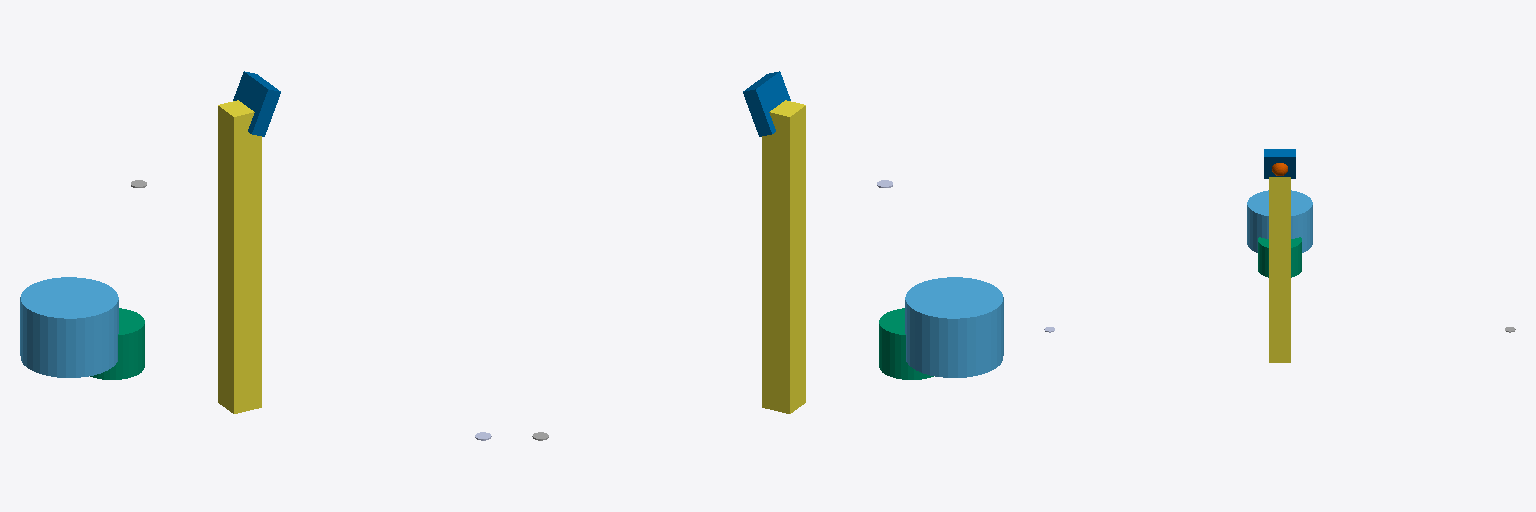
URDF robot description (neor_mini):
<?xml version="1.0" encoding="utf-8"?>
<!-- This URDF was automatically created by SolidWorks to URDF Exporter! Originally created by [author] ([email redacted]) 
     Commit Version: 1.5.1-0-g916b5db  Build Version: 1.5.7152.31018
     For more information, please see http://wiki.ros.org/sw_urdf_exporter -->
<robot name="neor_mini">

  <!-- Add Gazebo plugins -->
    <!-- Load ros_control plugin using the steer_bot_hardware_gazebo
    implementation of the hardware_interface::RobotHW -->

  <gazebo>
    <plugin name="gazebo_ros_control" filename="libgazebo_ros_control.so">
      <robotSimType>steer_bot_hardware_gazebo/SteerBotHardwareGazebo</robotSimType>
      <legacyModeNS>false</legacyModeNS>
    </plugin>
  </gazebo>

    <link name="base_link">
    <!-- avoid root link inertia warnings, annotation -->
    <inertial>
      <origin
        xyz="0.030649671440691 -1.79069899872708E-05 0.0558717976709459"
        rpy="0 0 0" />
      <mass
        value="1.72617713171385" />
      <inertia
        ixx="0.0107311274569357"
        ixy="-3.24164649120244E-08"
        ixz="0.00169188715816868"
        iyy="0.0198871551919603"
        iyz="2.40252669081509E-07"
        izz="0.0269841937242323" />
    </inertial>

    <visual>
      <origin xyz="0 0 0" rpy="0 0 0" />
      <geometry>
        <mesh filename="package://neor_mini/meshes/base_link.STL" />
      </geometry>
      <material name="">
      <color rgba="0.250980392156863 0.250980392156863 0.250980392156863 1" /> 
      </material> 
    </visual>
    <collision>
      <origin
        xyz="0 0 0"
        rpy="0 0 0" />
      <geometry>
        <mesh
          filename="package://neor_mini/meshes/base_link.STL" />
      </geometry>
    </collision>
  </link>
  <link
    name="rear_wheel_link">
    <inertial>
      <origin
        xyz="-8.88178419700125E-16 -2.05391259555654E-14 -0.00112500000001892"
        rpy="0 0 0" />
      <mass
        value="5.65486677646169E-05" />
      <inertia
        ixx="1.32005796313028E-10"
        ixy="-1.938704560671E-27"
        ixz="2.13770572261755E-26"
        iyy="1.32005796313028E-10"
        iyz="-7.60216295195271E-25"
        izz="2.03575203952622E-10" />
    </inertial>
    <visual>
      <origin
        xyz="0 0 0"
        rpy="0 0 0" />
      <geometry>
        <mesh
          filename="package://neor_mini/meshes/rear_wheel_link.STL" />
      </geometry>
      <material
        name="">
        <color
          rgba="0.274509803921569 1 0.247058823529412 1" />
      </material>
    </visual>
    <collision>
      <origin
        xyz="0 0 0"
        rpy="0 0 0" />
      <geometry>
        <mesh
          filename="package://neor_mini/meshes/rear_wheel_link.STL" />
      </geometry>
    </collision>
  </link>
  <joint
    name="rear_wheel_joint"
    type="continuous">
    <origin
      xyz="-0.181499999999597 0 0.0399999999987674"
      rpy="0 0 0" />
    <parent
      link="base_link" />
    <child
      link="rear_wheel_link" />
    <axis
      xyz="0 1 0" />
  </joint>
  <link
    name="left_rear_link">
    <inertial>
      <origin
        xyz="7.85229659072684E-11 -0.0196762547002777 4.85059770127805E-11"
        rpy="0 0 0" />
      <mass
        value="0.29556182905038" />
      <inertia
        ixx="0.000374087423652291"
        ixy="2.19336154342606E-13"
        ixz="-5.50404301757561E-12"
        iyy="0.000661017199375587"
        iyz="-5.10049385981967E-14"
        izz="0.000374087441459994" />
    </inertial>
    <visual>
      <origin
        xyz="0 0 0"
        rpy="0 0 0" />
      <geometry>
        <mesh
          filename="package://neor_mini/meshes/left_rear_link.STL" />
      </geometry>
      <material
        name="">
        <color
          rgba="0.792156862745098 0.819607843137255 0.933333333333333 1" />
      </material>
    </visual>
    <collision>
      <origin
        xyz="0 0 0"
        rpy="0 0 0" />
      <geometry>
        <mesh
          filename="package://neor_mini/meshes/left_rear_link.STL" />
      </geometry>
    </collision>
  </link>
  <joint
    name="left_rear_joint"
    type="continuous">
    <origin
      xyz="-0.181499999999595 0.228542434993694 0.0399999999991634"
      rpy="0 0 0" />
    <parent
      link="base_link" />
    <child
      link="left_rear_link" />
    <axis
      xyz="0 1 0" />
    <limit
      lower="-3.14"
      upper="3.14"
      effort="0"
      velocity="0" />
  </joint>
  <link
    name="right_rear_link">
    <inertial>
      <origin
        xyz="7.8521189550429E-11 0.0196762545376323 3.35983463273237E-11"
        rpy="0 0 0" />
      <mass
        value="0.295561829050389" />
      <inertia
        ixx="0.000374087423652306"
        ixy="-2.1933774523493E-13"
        ixz="5.50404145624456E-12"
        iyy="0.000661017199375601"
        iyz="-5.10073974604221E-14"
        izz="0.000374087441459995" />
    </inertial>
    <visual>
      <origin
        xyz="0 0 0"
        rpy="0 0 0" />
      <geometry>
        <mesh
          filename="package://neor_mini/meshes/right_rear_link.STL" />
      </geometry>
      <material
        name="">
        <color
          rgba="0.792156862745098 0.819607843137255 0.933333333333333 1" />
      </material>
    </visual>
    <collision>
      <origin
        xyz="0 0 0"
        rpy="0 0 0" />
      <geometry>
        <mesh
          filename="package://neor_mini/meshes/right_rear_link.STL" />
      </geometry>
    </collision>
  </link>
  <joint
    name="right_rear_joint"
    type="continuous">
    <origin
      xyz="-0.181499999999595 -0.228542434994426 0.0399999999991584"
      rpy="0 0 0" />
    <parent
      link="base_link" />
    <child
      link="right_rear_link" />
    <axis
      xyz="0 1 0" />
    <limit
      lower="-3.14"
      upper="3.14"
      effort="0"
      velocity="0" />
  </joint>
  <link
    name="front_steer_link">
    <inertial>
      <origin
        xyz="-2.1316282072803E-14 3.67778030252452E-11 -0.00112486602459905"
        rpy="0 0 0" />
      <mass
        value="5.65486677646163E-05" />
      <inertia
        ixx="1.32005796313026E-10"
        ixy="1.16322273640277E-26"
        ixz="1.20446157864484E-28"
        iyy="1.32005796313026E-10"
        iyz="-8.66481261175625E-27"
        izz="2.03575203952619E-10" />
    </inertial>
    <visual>
      <origin
        xyz="0 0 0"
        rpy="0 0 0" />
      <geometry>
        <mesh
          filename="package://neor_mini/meshes/front_steer_link.STL" />
      </geometry>
      <material
        name="">
        <color
          rgba="0.274509803921569 1 0.247058823529412 1" />
      </material>
    </visual>
    <collision>
      <origin
        xyz="0 0 0"
        rpy="0 0 0" />
      <geometry>
        <mesh
          filename="package://neor_mini/meshes/front_steer_link.STL" />
      </geometry>
    </collision>
  </link>
  <joint
    name="front_steer_joint"
    type="revolute">
    <origin
      xyz="0.172883370897628 0 -0.00376561854722868"
      rpy="0 0 0" />
    <parent
      link="base_link" />
    <child
      link="front_steer_link" />
    <axis
      xyz="0 0 1" />
    <limit
      lower="-0.72"
      upper="0.72"
      effort="0"
      velocity="0" />
  </joint>

<!-- In order to fit ackermann simulation plugins's request,amend the front steer link and it's joint -->
 <link name="front_steer_right_link">
 <!--  remember add inertial  label,if not,and it can't visual on gazebo-->
 <inertial>  
      <origin xyz="9.44636555644252E-08 -0.000295273745285485 -8.13046296954667E-11" rpy="0 0 0" />
      <mass value="0.296315811300368" /> 
      <inertia
        ixx="0.000374692013709393"
        ixy="-9.17172260383823E-08"
        ixz="-2.43187512356516E-12"
        iyy="0.000661029987747155"
        iyz="1.9736939507106E-13"
        izz="0.000374691963930348" />
    </inertial>
   <visual>
     <geometry>
       <cylinder length="0.001" radius="0.005"/>
     </geometry>
     <origin rpy="0 0 0"  xyz="0 0 0" />
     <material name=""> 
          <color rgba="0.792156862745098 0.819607843137255 0.933333333333333 1" />
     </material>
   </visual>
   <collision>
      <origin
        xyz="0 0 0"
        rpy="0 0 0" />
      <geometry>
       <cylinder length="0.001" radius="0.005"/>
      </geometry>
    </collision>
 </link>
 <joint name="front_steer_right_joint" type="revolute">
    <origin rpy="0 0 0"  xyz="0.17 -0.21 0.102" />
    <parent link="base_link" />
    <child link="front_steer_right_link" />
    <axis xyz="0 0 1" />     <!-- charge steer direction default is 0 0 1-->
    <limit lower="-0.69" upper="0.69" effort="0" velocity="0" />
 </joint>
<!-- ************************************************************************************* -->

  <link
    name="front_right_wheel_link">
    <inertial>
      <origin
        xyz="9.44636555644252E-08 -0.000295273745285485 -8.13046296954667E-11"
        rpy="0 0 0" />
      <mass
        value="0.296315811300368" />
      <inertia
        ixx="0.000374692013709393"
        ixy="-9.17172260383823E-08"
        ixz="-2.43187512356516E-12"
        iyy="0.000661029987747155"
        iyz="1.9736939507106E-13"
        izz="0.000374691963930348" />
    </inertial>
    <visual>
      <origin
        xyz="0 0 0"
        rpy="0 0 0" />
      <geometry>
        <mesh
          filename="package://neor_mini/meshes/front_right_wheel_link.STL" />
      </geometry>
      <material
        name="">
        <color
          rgba="0.792156862745098 0.819607843137255 0.933333333333333 1" />
      </material>
    </visual>
    <collision>
      <origin
        xyz="0 0 0"
        rpy="0 0 0" />
      <geometry>
        <mesh
          filename="package://neor_mini/meshes/front_right_wheel_link.STL" />
      </geometry>
    </collision>
  </link>
  <joint name="front_right_wheel_joint" type="continuous">
    <origin xyz="0 0 -0.06" rpy="0 0 0" />   <!-- amend the position between steer_right_link and front right wheel-->
    <parent link="front_steer_right_link" />
    <child  link="front_right_wheel_link" />
    <axis xyz="0 1 0" />
  </joint>

<!-- In order to fit ackermann simulation plugins's request,amend the front steer link and it's joint -->
 <link name="front_steer_left_link">
 <!--  remember add inertial  label,if not,and it can't visual on gazebo-->
    <inertial> 
      <origin xyz="9.44636555644252E-08 -0.000295273745285485 -8.13046296954667E-11" rpy="0 0 0" />
      <mass value="0.296315811300368" /> 
      <inertia
        ixx="0.000374692013709393"
        ixy="-9.17172260383823E-08"
        ixz="-2.43187512356516E-12"
        iyy="0.000661029987747155"
        iyz="1.9736939507106E-13"
        izz="0.000374691963930348" />
    </inertial>
   <visual>
     <geometry>
       <cylinder length="0.001" radius="0.005"/>
     </geometry>
     <origin rpy="0 0 0"  xyz="0 0 0" />
   </visual>
    <collision>
      <origin xyz="0 0 0" rpy="0 0 0" />
      <geometry>
       <cylinder length="0.001" radius="0.005"/>
      </geometry>
    </collision>
 </link>
 <joint name="front_steer_left_joint" type="revolute">
    <origin rpy="0 0 0"  xyz="0.17 0.21 0.102" />
    <parent link="base_link" />
    <child link="front_steer_left_link" />
    <axis xyz="0 0 1" />  <!-- charge steer direction default is 0 0 1-->
    <limit lower="-0.69" upper="0.69" effort="0" velocity="0" />
 </joint>
<!-- ************************************************************************************* -->

  <link
    name="front_left_wheel_link">
    <inertial>
      <origin
        xyz="-3.99413835339146E-11 0.000295273997845347 1.08602016268833E-10"
        rpy="0 0 0" />
      <mass
        value="0.296315811293944" />
      <inertia
        ixx="0.00037469197851121"
        ixy="-1.84493877596723E-13"
        ixz="-9.50756757097929E-12"
        iyy="0.00066103001709398"
        iyz="-1.17866882205563E-13"
        izz="0.000374691969713977" />
    </inertial>
    <visual>
      <origin
        xyz="0 0 0"
        rpy="0 0 0" />
      <geometry>
        <mesh
          filename="package://neor_mini/meshes/front_left_wheel_link.STL" />
      </geometry>
      <material
        name="">
        <color
          rgba="0.792156862745098 0.819607843137255 0.933333333333333 1" />
      </material>
    </visual>
    <collision>
      <origin
        xyz="0 0 0"
        rpy="0 0 0" />
      <geometry>
        <mesh
          filename="package://neor_mini/meshes/front_left_wheel_link.STL" />
      </geometry>
    </collision>
  </link>
  <joint name="front_left_wheel_joint" type="continuous">
    <origin xyz="0 0 -0.06" rpy="0 0 0" />      <!-- amend the position between steer_left_link and front left wheel-->
    <parent link="front_steer_left_link" />
    <child link="front_left_wheel_link" />
    <axis xyz="0 1 0" /> 
  </joint>


  <!--  add laser link -->
  <link name="laser_link">
    <visual>
      <geometry>
        <cylinder length="0.04" radius="0.03"/>
      </geometry>
    </visual>
  </link>
  <joint name ="2Dlaser_joints" type="fixed">
    <origin xyz="0.0 0.0 0.13" rpy="0.0 0.0 0.0"/>
    <parent link="base_link"/>
    <child link="laser_link"/>
  </joint>
    <!--  add laser link -->
  <link name="laser_link2">
    <visual>
      <geometry>
        <cylinder length="0.03" radius="0.02"/>
      </geometry>
    </visual>
  </link>
  <joint name ="2Dlaser_joints2" type="fixed">
    <origin xyz="0.03 0.0 0.112" rpy="0.0 0.0 0.0"/>
    <parent link="base_link"/>
    <child link="laser_link2"/>
  </joint>
  <!--*********************************************************************-->
  
  <!-- add camera links -->
  <link name="camerabase_link">
    <visual>
      <geometry>
        <box size="0.02 0.02 0.2"/>
      </geometry>
    </visual>
  </link>
  <joint name ="camerabase_joints" type="fixed">
    <origin xyz="0.12 0.0 0.15" rpy="0.0 0.0 0.0"/>   
    <parent link="base_link"/>
    <child link="camerabase_link"/>
  </joint>

  <link name="camera_link">
    <visual>
      <geometry>
        <box size="0.01 0.03 0.03"/>
      </geometry>
    </visual>
  </link>
  <joint name ="camera_joints" type="fixed">
    <origin xyz="0.01 0 0.1" rpy="0.0 0.4 0.0"/>   
    <parent link="camerabase_link"/>
    <child link="camera_link"/>
  </joint>
  
  <link name="camerahead_link">
    <visual>
      <geometry>
        <sphere radius="0.0075" />
      </geometry>
    </visual>
  </link>
  <joint name ="camerahead_joints" type="fixed">
    <origin xyz="0.005 0 0" rpy="0.0 0.0 0.0"/>   
    <parent link="camera_link"/>
    <child link="camerahead_link"/>
  </joint>
  <!--*********************************************************************-->

  <!--add color for links -->
  <gazebo reference="base_link">
    <material>Gazebo/White</material>
  </gazebo>

  <gazebo reference="front_steer_left_link">
    <material>Gazebo/Road</material>
  </gazebo>

  <gazebo reference="front_steer_right_link">
    <material>Gazebo/Road</material>
  </gazebo>

  <gazebo reference="front_left_wheel_link">
    <material>Gazebo/FlatBlack</material>
  </gazebo>

  <gazebo reference="front_right_wheel_link">
    <material>Gazebo/FlatBlack</material>
  </gazebo>
  
  <gazebo reference="left_rear_link">
    <material>Gazebo/FlatBlack</material>
  </gazebo>

  <gazebo reference="right_rear_link">
    <material>Gazebo/FlatBlack</material>
  </gazebo>

  <gazebo reference="laser_link">
    <material>Gazebo/Black</material>
  </gazebo>
  <gazebo reference="laser_link2">
    <material>Gazebo/GreyTransparent</material>
  </gazebo>

   <gazebo reference="camera_link">
    <material>Gazebo/White</material>
  </gazebo>
  <gazebo reference="camerabase_link">
    <material>Gazebo/Black</material>
  </gazebo>
  <gazebo reference="camerahead_link">
    <material>Gazebo/Black</material>
  </gazebo>

  <!--*********************************************************************-->

  <!-- add camera simulation plugines -->
  <gazebo reference="camerahead_link">
    <sensor type="camera" name="camera1">
      <update_rate>40.0</update_rate>
      <camera name="head">
        <horizontal_fov>1.3962634</horizontal_fov>
        <image>
          <width>800</width>
          <height>800</height>
          <format>R8G8B8</format>
        </image>
        <clip>
          <near>0.02</near>
          <far>300</far>
        </clip>
        <noise>
          <type>gaussian</type>
          <mean>0.0</mean>
          <stddev>0.007</stddev>
        </noise>
      </camera>
      <plugin name="camera_controller" filename="libgazebo_ros_camera.so">
        <alwaysOn>true</alwaysOn>
        <updateRate>30.0</updateRate>
        <cameraName>/camera</cameraName>
        <imageTopicName>image_raw</imageTopicName>
        <cameraInfoTopicName>camera_info</cameraInfoTopicName>
        <frameName>base_link</frameName>
        <hackBaseline>0.07</hackBaseline>
        <distortionK1>0.0</distortionK1>
        <distortionK2>0.0</distortionK2>
        <distortionK3>0.0</distortionK3>
        <distortionT1>0.0</distortionT1>
        <distortionT2>0.0</distortionT2>
      </plugin>
    </sensor>
  </gazebo>
  <!--*********************************************************************-->

  <!-- add laser simulation plugines adaptored for rplidar A1M8 -->
  <gazebo reference="laser_link">
    <sensor type="ray" name="Top_laser_sensor">
      <visualize>false</visualize>
      <update_rate>40</update_rate>
      <ray>
        <scan>
          <horizontal>
            <samples>720</samples>
            <resolution>1</resolution>
            <min_angle>-3.1415926</min_angle>
            <max_angle>3.1415926</max_angle>
          </horizontal>
        </scan>
        <range>
          <min>0.01</min>
          <max>12.0</max>
          <resolution>0.05</resolution>
         </range>
        <noise>
          <type>gaussian</type>
          <mean>0.0</mean>
          <stddev>0.01</stddev>
        </noise>
      </ray>
      <plugin name="gazebo_ros_head_laser_controller" filename="libgazebo_ros_laser.so">
        <topicName>/scan</topicName>
        <frameName>laser_link</frameName>
      </plugin>
    </sensor>
  </gazebo>
  <!--*********************************************************************-->

</robot>

--- Facts derived from the render (not from the file) ---
The picture shows the robot from 3 angles, left to right: view 1: azimuth 30°, elevation 25°; view 2: azimuth 150°, elevation 25°; view 3: azimuth 270°, elevation 25°; orthographic projection.
Model neor_mini with 14 links and 13 joints (3 revolute, 5 continuous, 5 fixed), rooted at base_link, posed every joint at zero.
Visible links, largest first — view 1: camerabase_link, laser_link, laser_link2, camera_link; view 2: camerabase_link, laser_link, laser_link2, camera_link; view 3: camerabase_link, laser_link, laser_link2, camera_link.
Boxes of the visible links, x1,y1,x2,y2 form: camerabase_link: (218,100,261,413); laser_link: (20,277,118,377); laser_link2: (90,308,144,379); camera_link: (233,71,280,136); camerabase_link: (762,100,805,413); laser_link: (905,277,1003,377); laser_link2: (879,308,933,379); camera_link: (743,71,790,136); camerabase_link: (1269,177,1290,362); laser_link: (1247,190,1312,252); laser_link2: (1258,237,1301,277); camera_link: (1264,149,1295,178).
Size in the robot's own frame: 0.205 by 0.43 by 0.2158 metres.
0 mesh visuals loaded from 7 distinct referenced files (none loaded); not drawn: 7 (reference not matched to a file when rendering).
